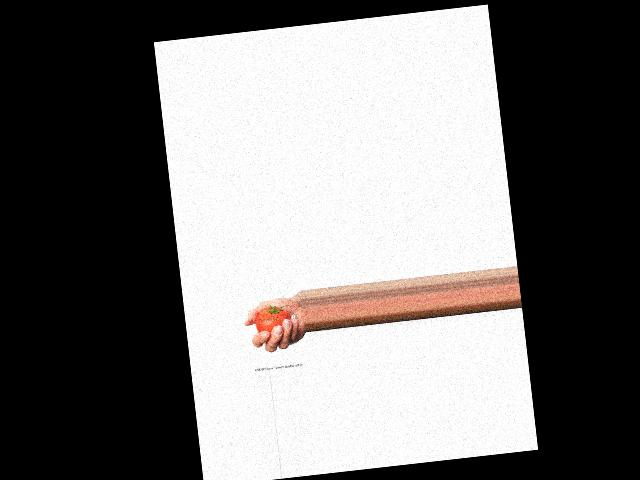tomato: (253, 305, 291, 333)
